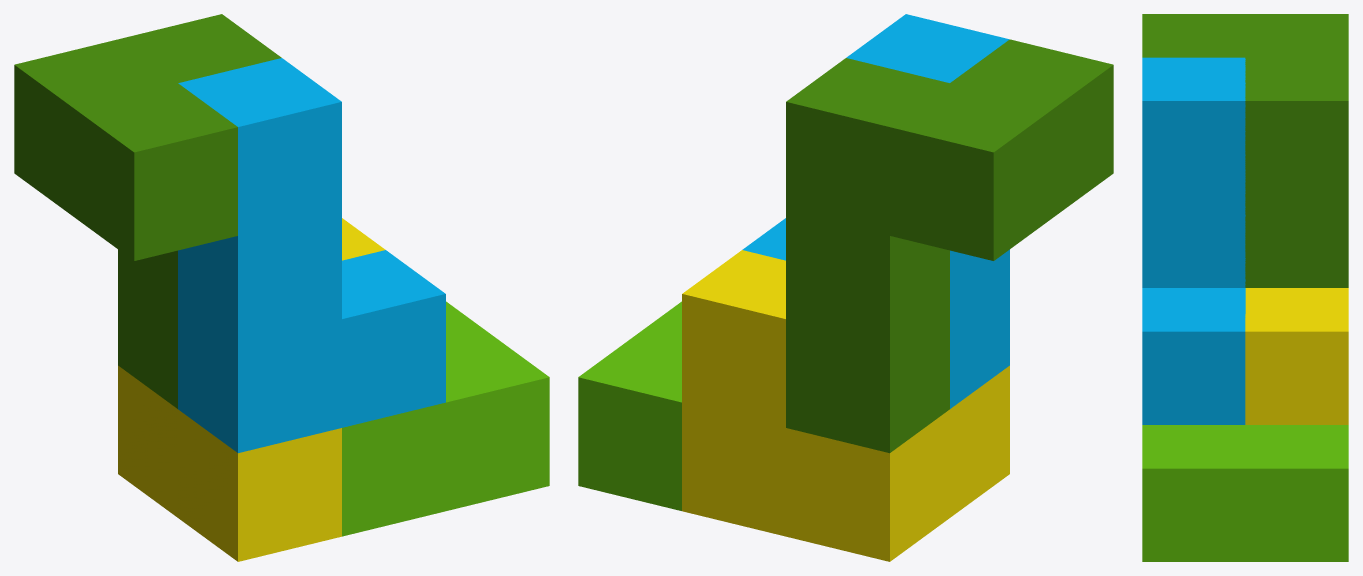
3 views of the same model, side by side, from view 1: azimuth 30°, elevation 25°; view 2: azimuth 150°, elevation 25°; view 3: azimuth 270°, elevation 25° (orthographic). The views are drawn at different scales.
Parts seen in each view (by area): view 1: mergedBlocks(Clone); view 2: mergedBlocks(Clone); view 3: mergedBlocks(Clone).
Part boxes in pixels (x1=…): mergedBlocks(Clone): x1=14, y1=14, x2=549, y2=561; mergedBlocks(Clone): x1=578, y1=14, x2=1113, y2=561; mergedBlocks(Clone): x1=1142, y1=14, x2=1348, y2=561.
Bounding box in the file's own units: 4 × 4 × 2.
Materials: 4 (4 with a texture image).
